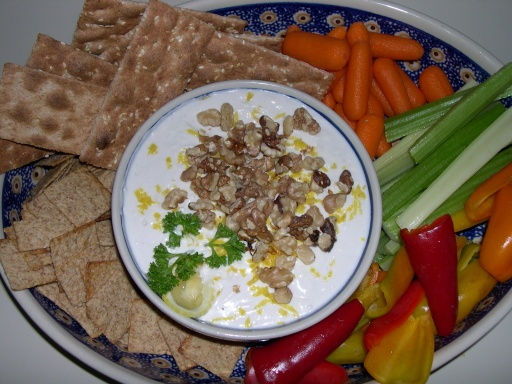background: (0, 0, 410, 230), (97, 52, 296, 198)
